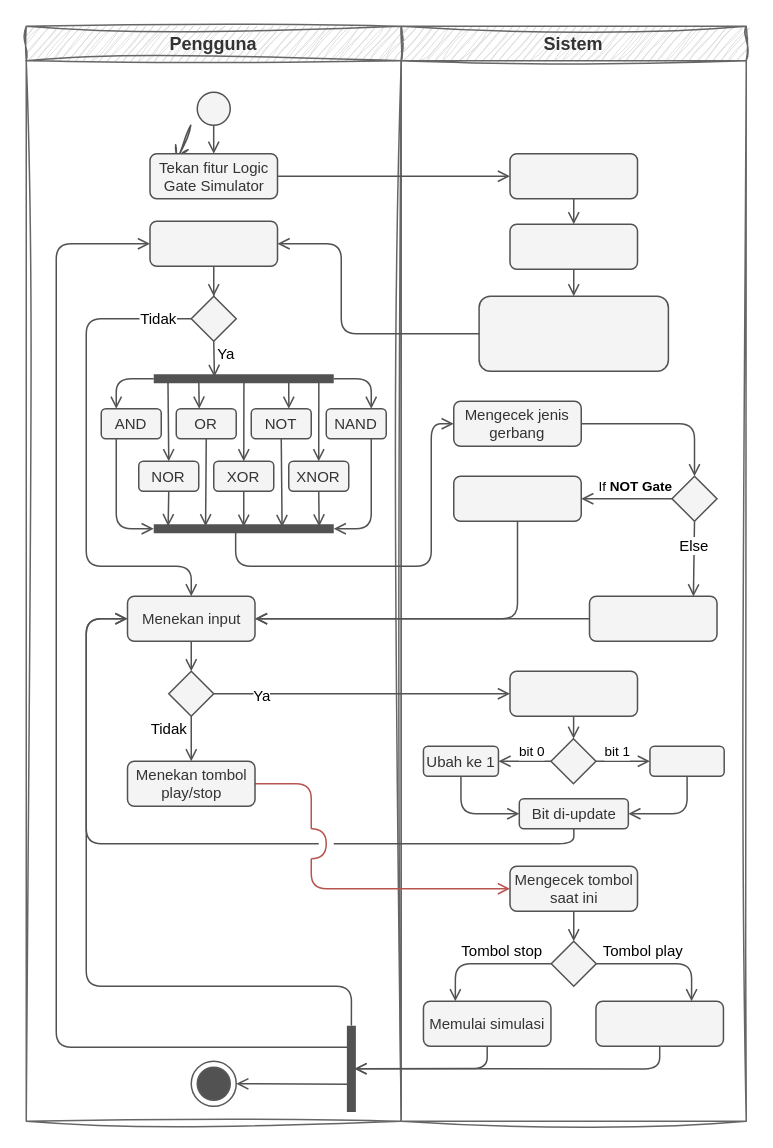
Image size: 773x1148. Some labels were removed from this diagram. Here are the shapes that lost their labels. From the top down, the centre of each, then its label:
At point (573, 175): "Memproses aksi".
At point (213, 243): "Memilih gerbang".
At point (573, 246): "Mengarahkan pengguna ke fitur".
At point (573, 333): "Menampilkan default gerbang AND, 2 variabel input dan bitmap lampu".
At point (516, 498): "Menyembunyikan 1 varibel input".
At point (652, 618): "Menampilkan 2 variabel input".
At point (573, 693): "Mengecek bit pada input".
At point (686, 760): "Ubah ke 0".
At point (658, 1023): "Menghentikan simulasi".
